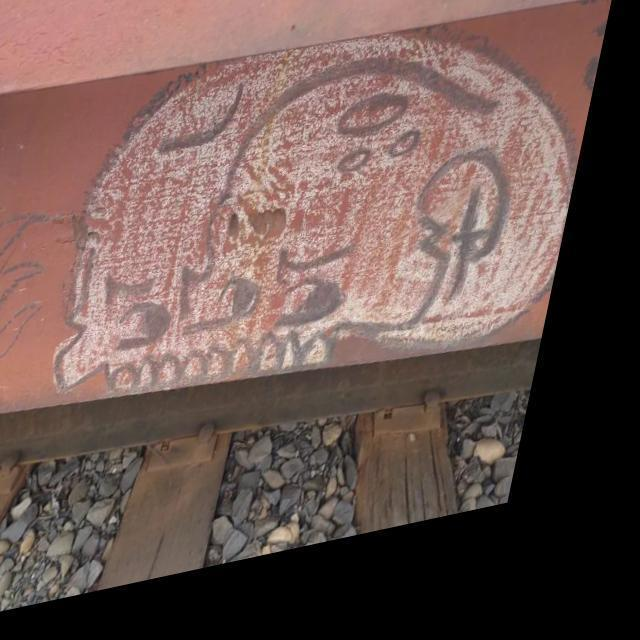-: (0, 0, 629, 477)
